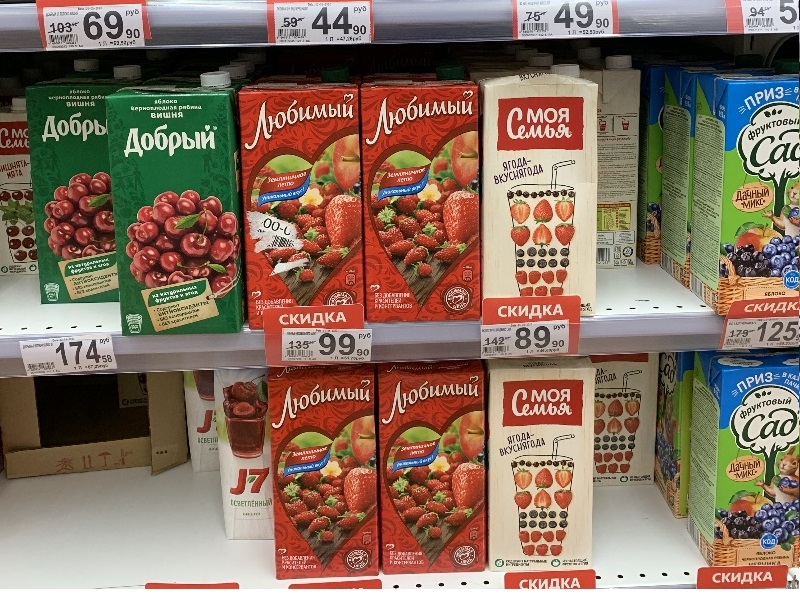juice: (108, 69, 255, 344), (357, 64, 486, 328), (231, 69, 373, 308), (371, 355, 493, 582), (263, 361, 386, 581)
